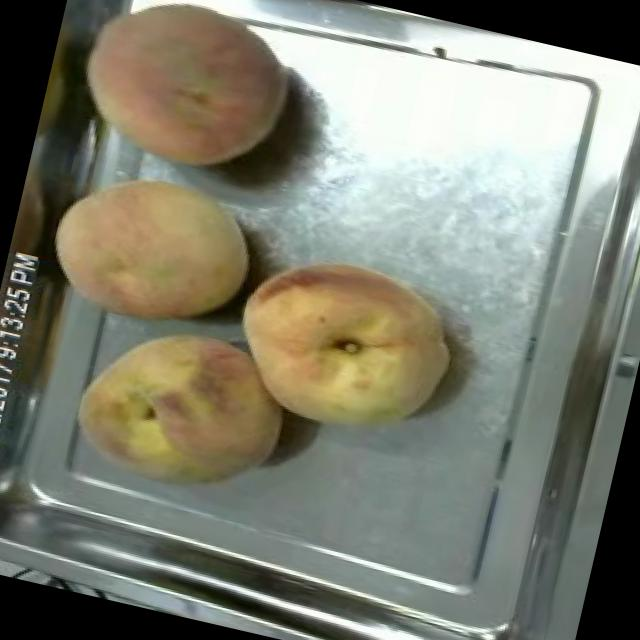Fruit: (216, 232, 474, 459), (53, 298, 306, 524), (47, 0, 317, 200), (22, 140, 274, 348)
